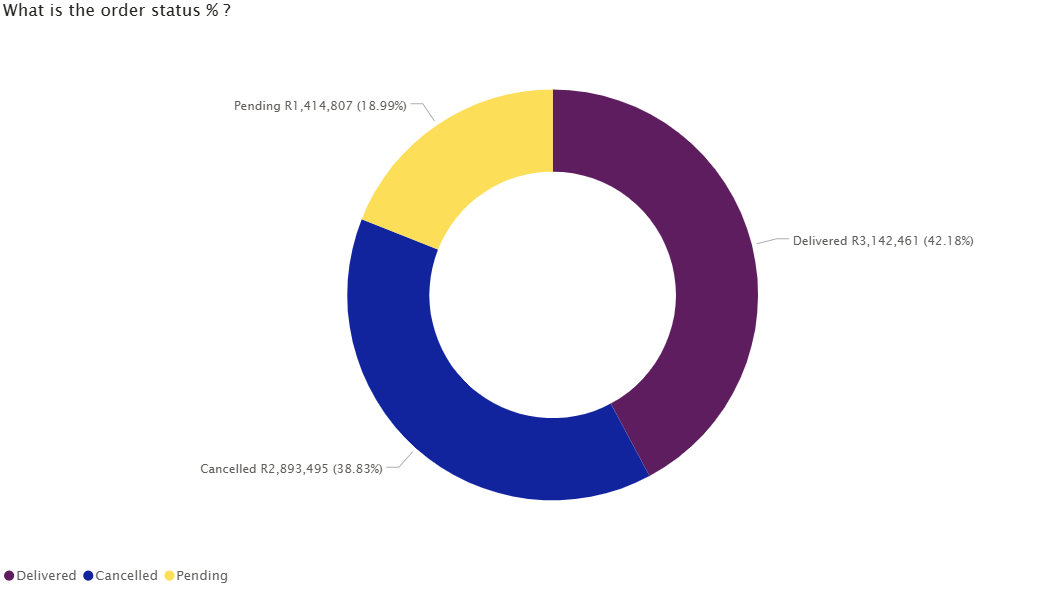

What the dashboard file says about the page in this screenshot:
{"tool":"powerbi","page":{"name":"Order Status for our products","canvas":[1280,720],"ordinal":3},"visuals":[{"type":"donutChart","title":"What is the order status % ?","fields":{"Y":["My Measures.Total Sales"],"Category":["eCommerceData.Group Status"],"Series":["eCommerceData.Group Status"]},"box":[10,0,677.4,596.6],"z":0}]}

Visuals, with their boxes in screenshot pixels (x1, y1, x2, y2), scaled from the page's 1280x720 canvas onto the 1058x597 screenshot:
"What is the order status % ?" donutChart: (left=8, top=0, right=568, bottom=495)
